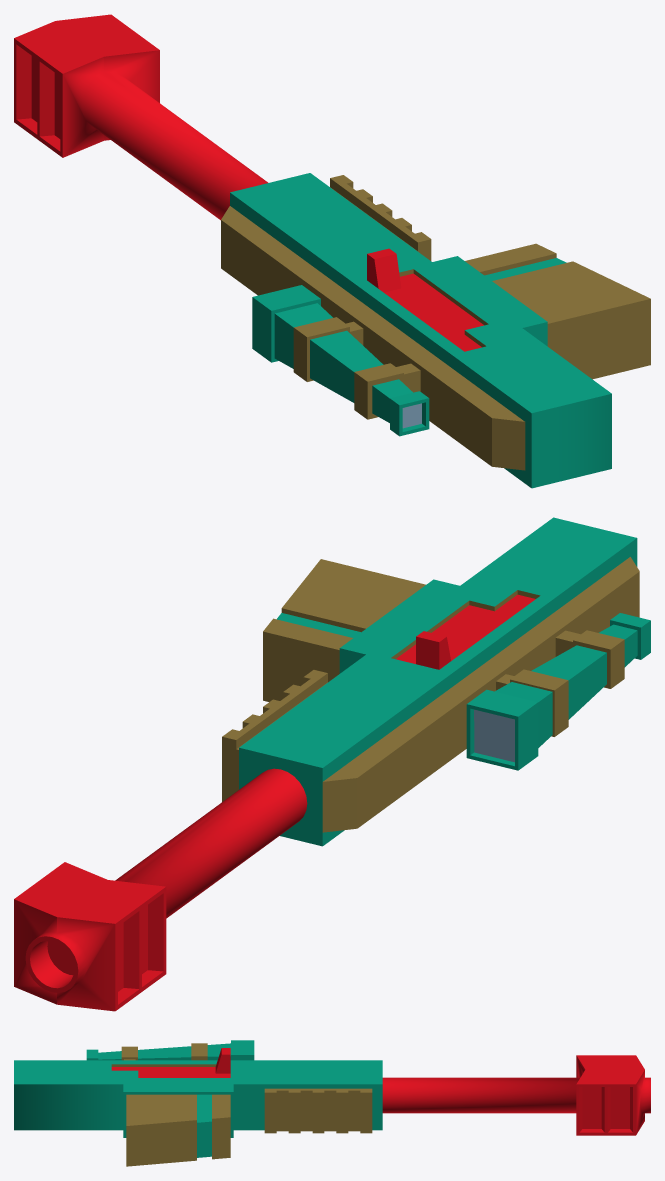
File: GEAR_SNIPER.fbx
3 renders of one model, top to bottom at view 1: azimuth 30°, elevation 25°; view 2: azimuth 150°, elevation 25°; view 3: azimuth 270°, elevation 25°, orthographic. The views are drawn at different scales.
Parts seen in each view (by area): view 1: sniper; view 2: sniper; view 3: sniper.
Boxes of the visible parts, box(x1,y1,x2,y2) form: sniper: box(14, 14, 650, 488); sniper: box(14, 517, 650, 1011); sniper: box(14, 1040, 650, 1166).
Size of the model in its own units: 511 by 176 by 1570.
